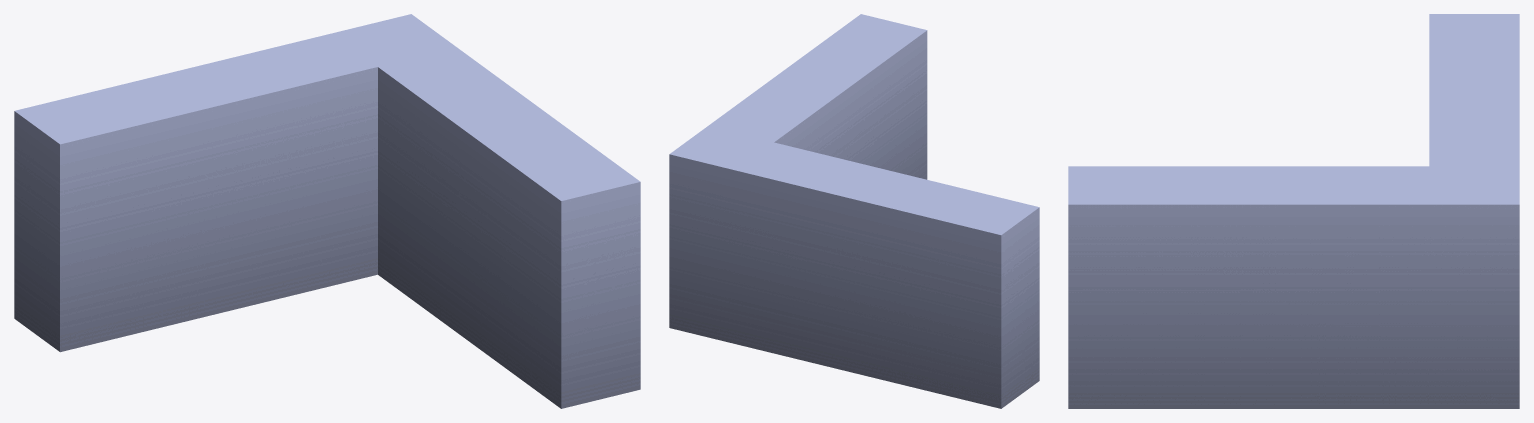
Rendered from wall-corner-low.glb.
3 views of the same model, side by side, from view 1: azimuth 30°, elevation 25°; view 2: azimuth 150°, elevation 25°; view 3: azimuth 270°, elevation 25° (orthographic). The views are drawn at different scales.
Parts seen in each view (by area): view 1: wall-corner-low; view 2: wall-corner-low; view 3: wall-corner-low.
Part boxes in pixels (x1=…): wall-corner-low: x1=14, y1=14, x2=640, y2=408; wall-corner-low: x1=669, y1=14, x2=1039, y2=408; wall-corner-low: x1=1068, y1=14, x2=1519, y2=408.
Bounding box in the file's own units: 1 × 0.5 × 1.
1 material, 1 textured.
